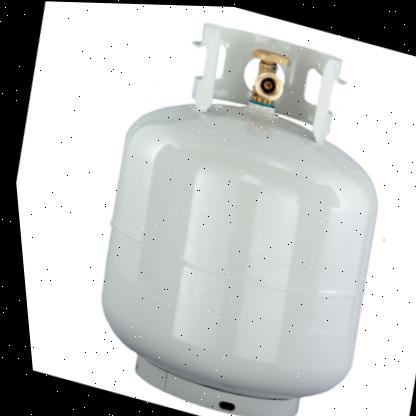gas-tank: (33, 0, 415, 415)
